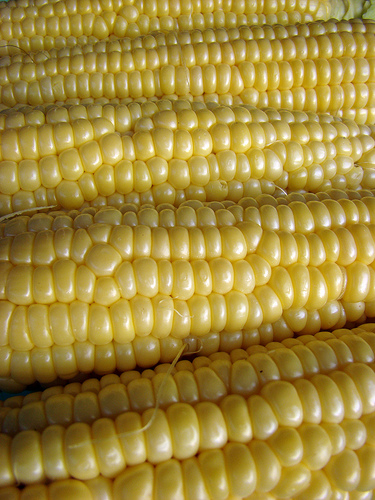corn: (0, 320, 373, 498), (0, 106, 373, 217), (0, 20, 373, 123), (0, 0, 370, 52)
